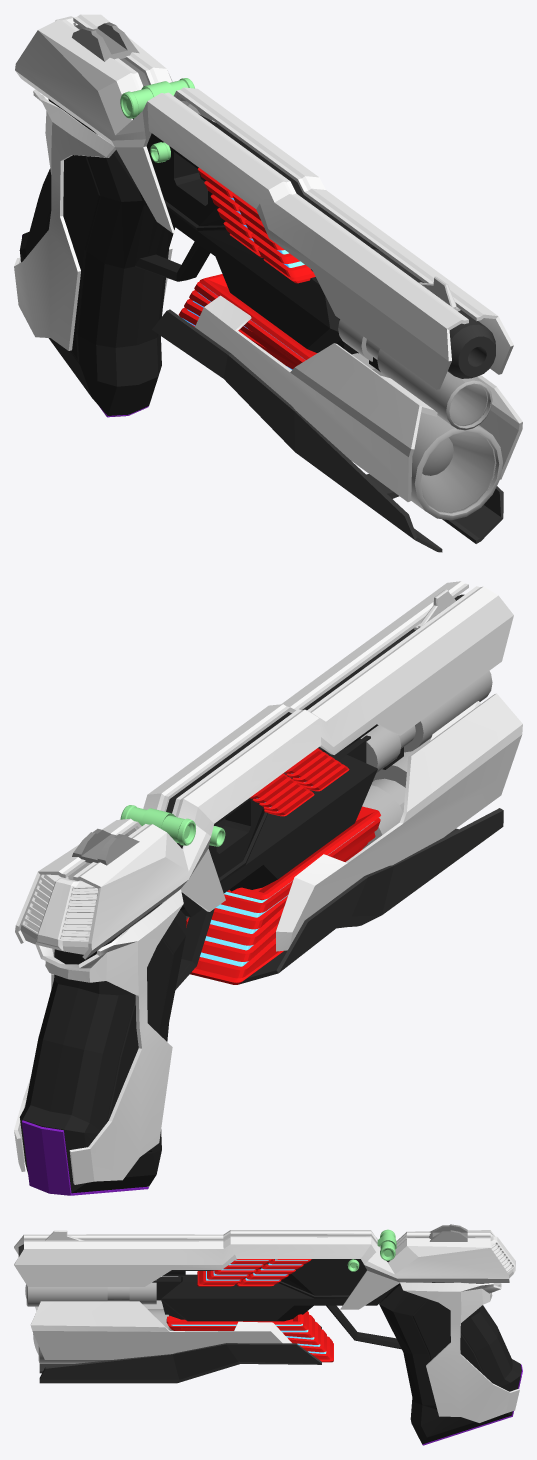
File: GunSciFi_mechanical.FBX
3 views of the same model, one above another, from view 1: azimuth 30°, elevation 25°; view 2: azimuth 150°, elevation 25°; view 3: azimuth 270°, elevation 25° (orthographic). The views are drawn at different scales.
Parts seen in each view (by area): view 1: Pistol, Base, Wight, Dulo, FlashLights, AimMech; view 2: Pistol, Base, Wight, Dulo, FlashLights, M1, AimMech; view 3: Pistol, Base, Wight, Dulo, FlashLights, AimMech.
Boxes of the visible parts, box(x1,y1,x2,y2) form: Pistol: box(15, 14, 513, 389); Base: box(19, 86, 380, 415); Wight: box(14, 89, 522, 501); Dulo: box(150, 142, 503, 552); FlashLights: box(338, 319, 502, 520); AimMech: box(72, 22, 139, 61); Pistol: box(15, 581, 513, 959); Base: box(19, 667, 403, 1193); Wight: box(14, 693, 522, 1184); Dulo: box(186, 594, 503, 984); FlashLights: box(360, 671, 492, 848); M1: box(22, 1120, 148, 1195); AimMech: box(72, 828, 139, 865); Pistol: box(14, 1229, 515, 1309); Base: box(152, 1259, 521, 1444); Wight: box(30, 1282, 519, 1422); Dulo: box(18, 1244, 359, 1383); FlashLights: box(25, 1280, 173, 1363); AimMech: box(429, 1224, 467, 1241).
Bounding box in the file's own units: 34.86 × 188 × 87.05.
